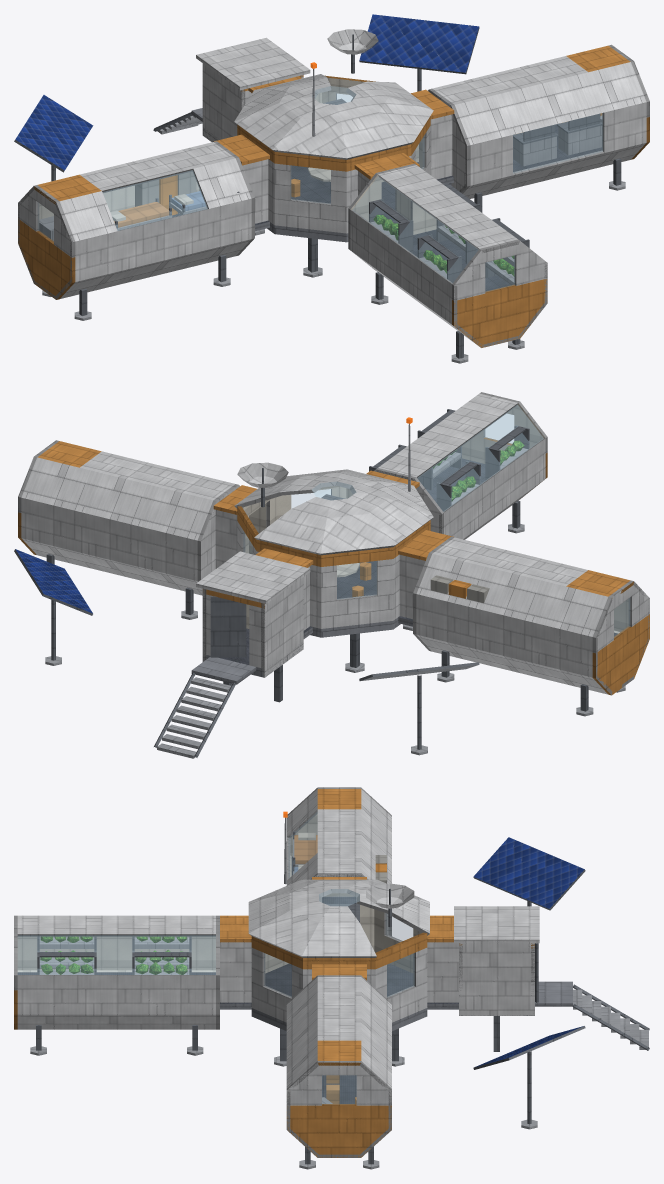
File: modular-outpost.glb
3 views of the same model, one above another, from view 1: azimuth 30°, elevation 25°; view 2: azimuth 150°, elevation 25°; view 3: azimuth 270°, elevation 25° (orthographic). The views are drawn at different scales.
Parts seen in each view (by area): view 1: body, roof; view 2: body, roof; view 3: body, roof.
Boxes of the visible parts, left/top/right/bottom form: body: left=14, top=14, right=649, bottom=363; roof: left=18, top=29, right=649, bottom=285; body: left=14, top=409, right=649, bottom=758; roof: left=18, top=392, right=649, bottom=637; body: left=14, top=814, right=649, bottom=1169; roof: left=14, top=787, right=539, bottom=1091.
Size of the model in its own units: 20.54 by 7.17 by 20.08.
Materials: 7 (6 with a texture image).
